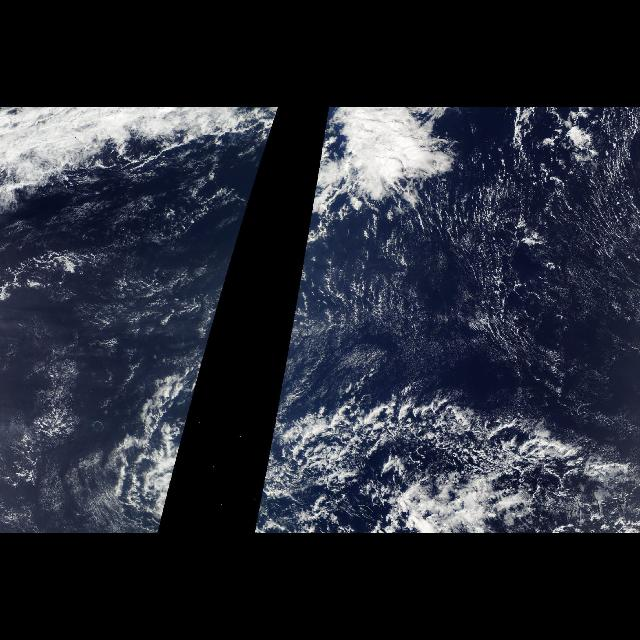Fish: (262, 381, 632, 493)
Gravel: (295, 398, 635, 497)
Sugar: (288, 152, 636, 434), (80, 178, 192, 356)
